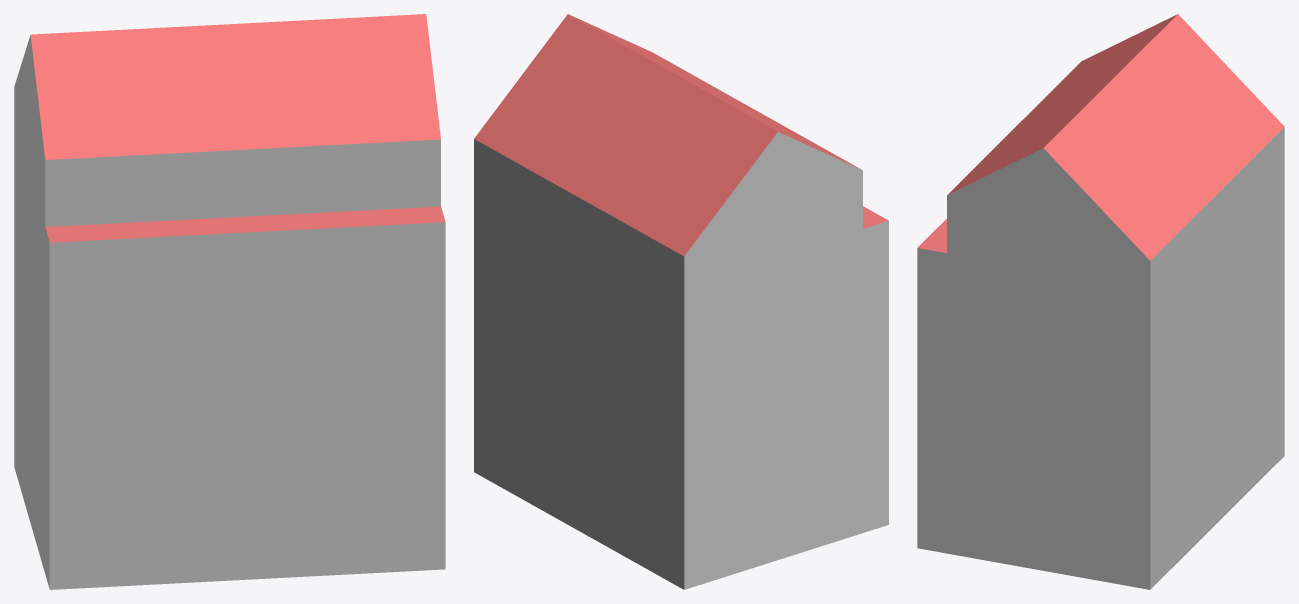
The model's file is DEBY_LOD2_4907015.gltf.
The picture shows the model from 3 angles, left to right: view 1: azimuth 30°, elevation 25°; view 2: azimuth 150°, elevation 25°; view 3: azimuth 270°, elevation 25°; orthographic projection. The views are drawn at different scales.
Parts seen in each view (by area): view 1: Z_UP; view 2: Z_UP; view 3: Z_UP.
Part boxes in pixels (<box>): Z_UP: <box>14,14,445,589</box>; Z_UP: <box>474,14,888,589</box>; Z_UP: <box>917,14,1284,589</box>.
Bounding box in the file's own units: 18.29 × 20.5 × 16.15.
